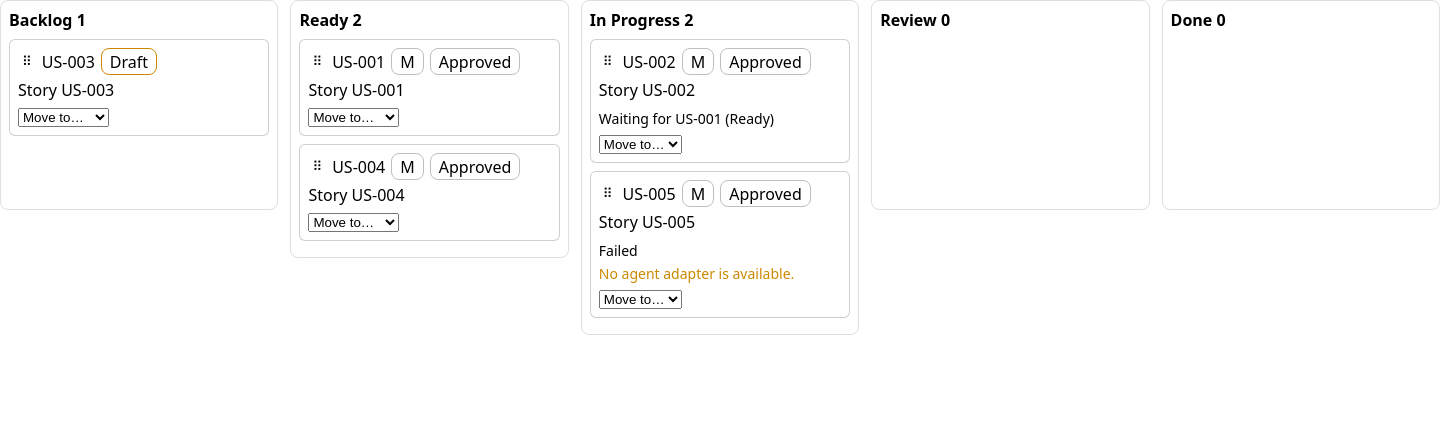
Test case: US-038 AC-4: rejected moves snap back with the explanation › keeps the card in place and shows why the move was refused
The image size is (1440, 424).
Select "Ready" in the dropdown named "Move US-003 to": (64,118) [18,108,109,127]
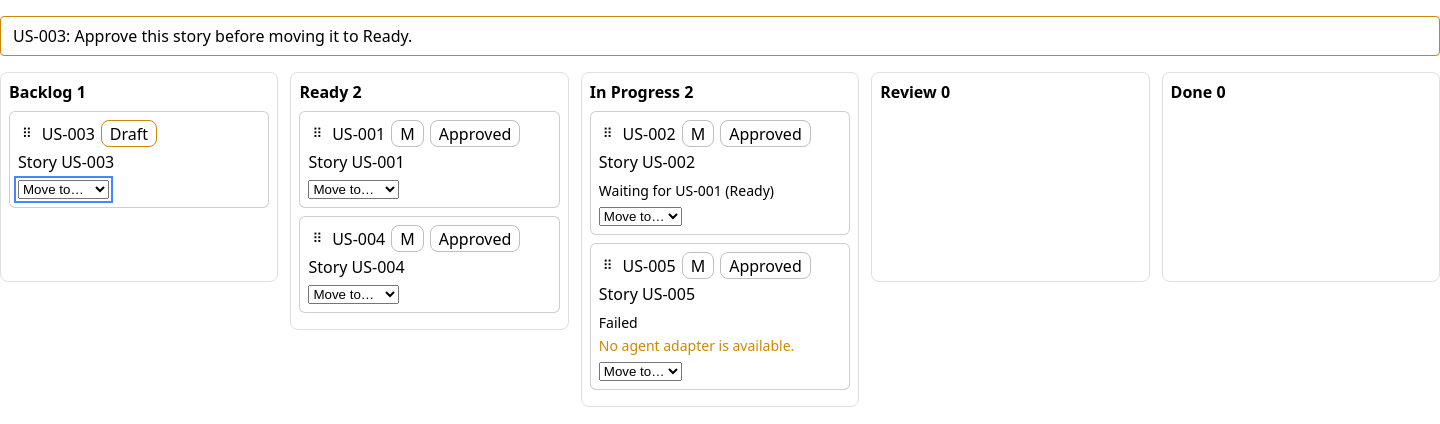
Expected: the element named "US-003 Story US-003" is shown, [9,111,269,208]
Expected: the message reads "US-003: Approve this story before moving it to Ready.", [13,25,412,47]
